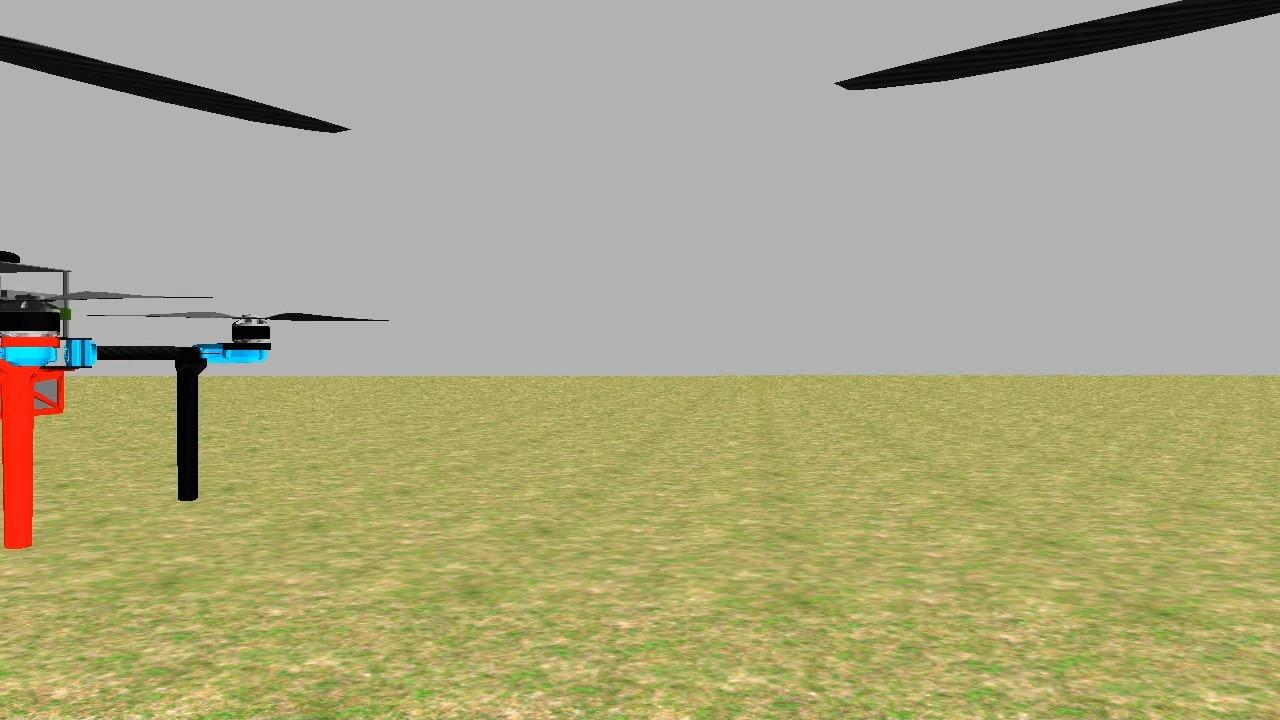UAV: (0, 244, 280, 557)
